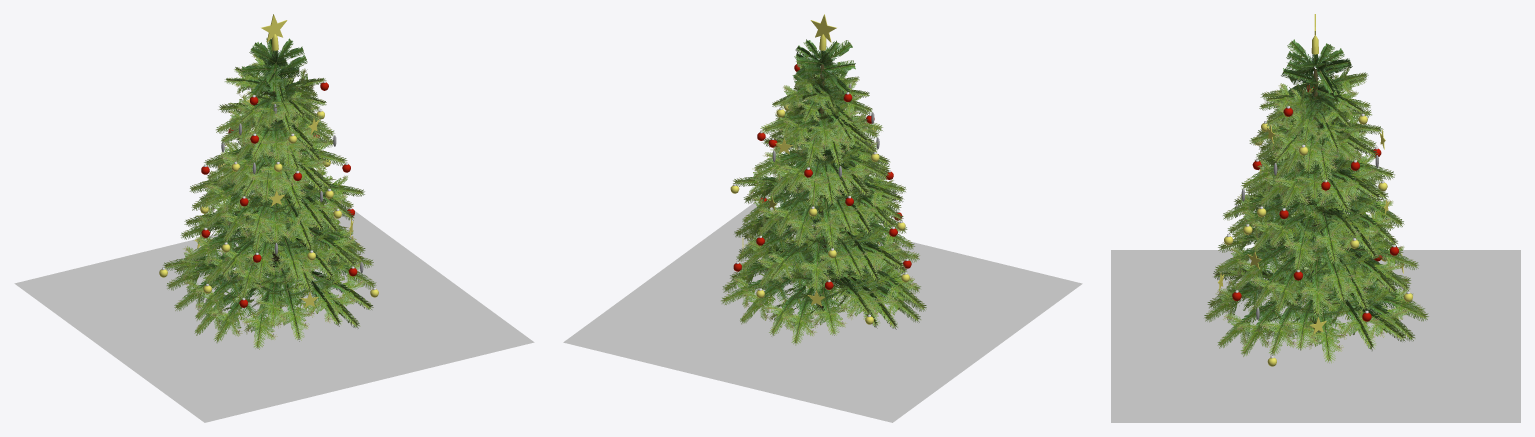
File: Christmas.dae
3 views of the same model, side by side, from view 1: azimuth 30°, elevation 25°; view 2: azimuth 150°, elevation 25°; view 3: azimuth 270°, elevation 25° (orthographic). The views are drawn at different scales.
Parts seen in each view (by area): view 1: floor, leaves; view 2: floor, leaves; view 3: floor, leaves.
Boxes of the visible parts, x1,y1,x2,y2 form: floor: (14,204,534,422); leaves: (163,38,376,349); floor: (563,203,1082,422); leaves: (721,39,926,345); floor: (1111,250,1520,422); leaves: (1204,39,1428,363).
Size of the model in its own units: 2.34 by 2.34 by 2.03.
Materials: 7 (1 with a texture image).
